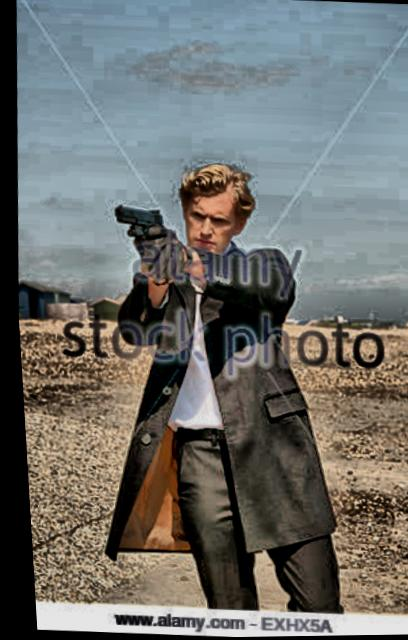pistol: (107, 201, 165, 242)
